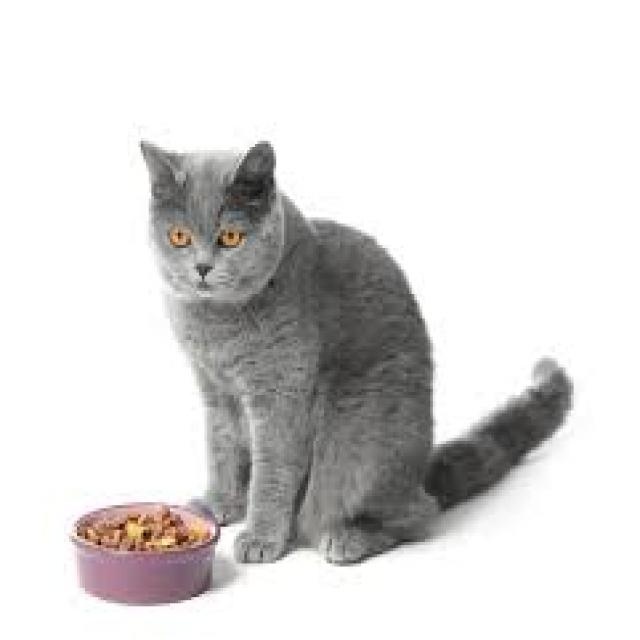Cat: (135, 130, 578, 574)
